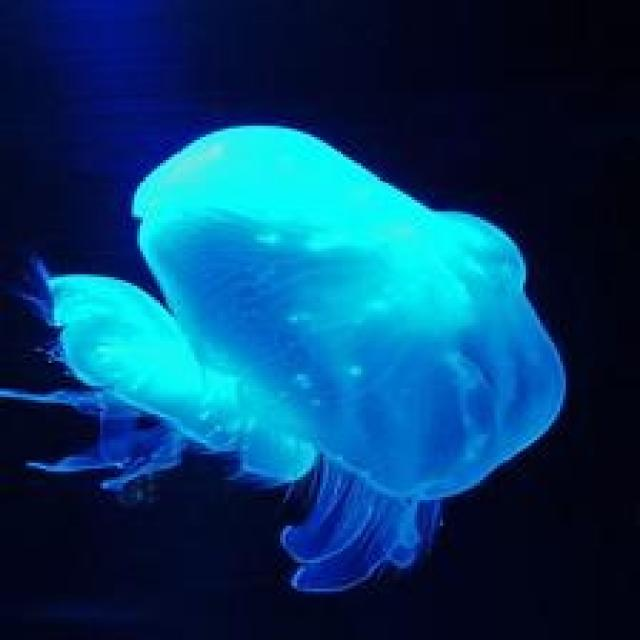Moon-jellyfish: (17, 120, 569, 594)
